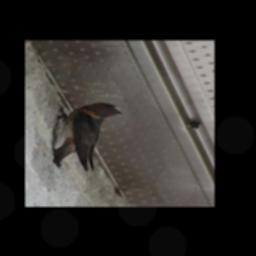Swallow: (50, 102, 122, 171)
